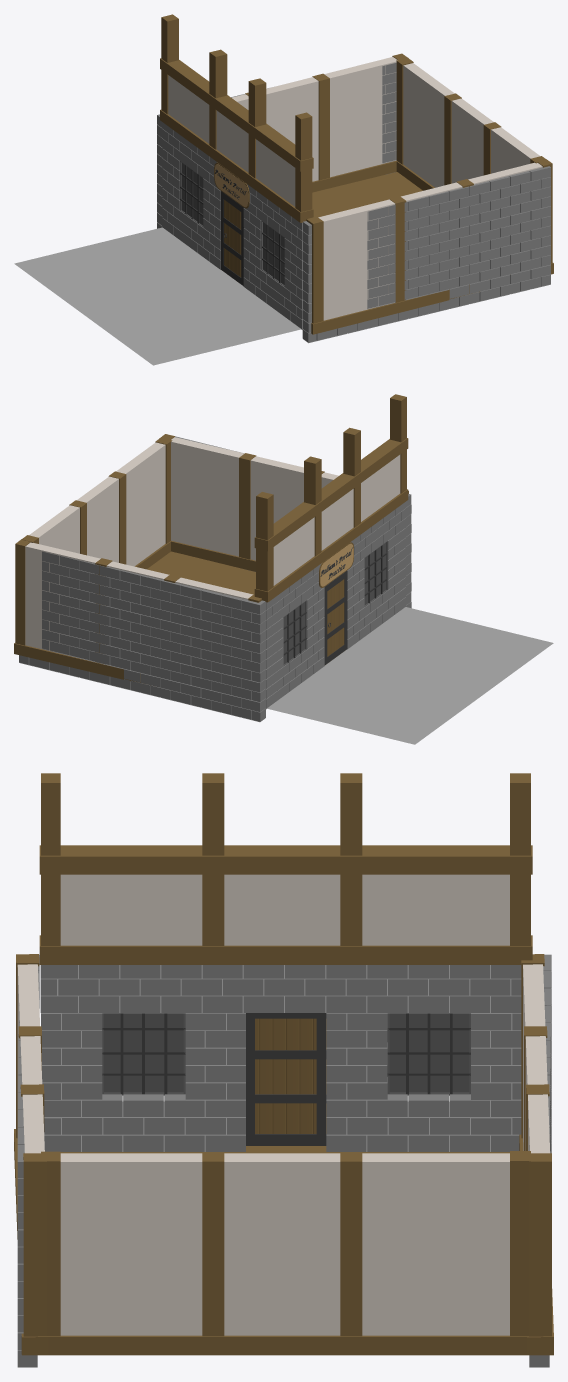
Rendered from testMenuBackground 1.fbx.
3 views of the same model, one above another, from view 1: azimuth 30°, elevation 25°; view 2: azimuth 150°, elevation 25°; view 3: azimuth 270°, elevation 25° (orthographic). The views are drawn at different scales.
Visible parts, largest first — view 1: BrickWall_Back1, pPlane2, BrickWall, pCube13, pCube9, pCube3, pCube11, pCube2, pCube12, pCube1, pCube10, pPlane1 (+9 smaller); view 2: BrickWall_Back, pPlane2, pCube11, BrickWall, pCube9, pCube3, pCube2, pCube1, pCube13, pCube14, pCube10, pPlane1 (+9 smaller); view 3: pCube9, BrickWall, pCube2, pCube10, pCube3, pCube1, Brickplaster, pCube12, door, pCube14, pCube7, pCube8 (+8 smaller).
Boxes of the visible parts, x1=… form: BrickWall_Back1: x1=302, y1=166, x2=550, y2=343; pPlane2: x1=14, y1=227, x2=301, y2=365; BrickWall: x1=162, y1=122, x2=302, y2=329; pCube13: x1=231, y1=57, x2=397, y2=181; pCube9: x1=403, y1=63, x2=540, y2=187; pCube3: x1=160, y1=14, x2=313, y2=171; pCube11: x1=318, y1=162, x2=542, y2=320; pCube2: x1=168, y1=75, x2=295, y2=206; pCube12: x1=306, y1=159, x2=553, y2=334; pCube1: x1=160, y1=70, x2=313, y2=222; pCube10: x1=396, y1=57, x2=545, y2=190; pPlane1: x1=312, y1=172, x2=422, y2=217; BrickWall_Back: x1=19, y1=551, x2=265, y2=722; pPlane2: x1=267, y1=607, x2=553, y2=744; pCube11: x1=171, y1=437, x2=338, y2=560; BrickWall: x1=266, y1=502, x2=405, y2=708; pCube9: x1=29, y1=442, x2=165, y2=566; pCube3: x1=254, y1=394, x2=408, y2=550; pCube2: x1=273, y1=454, x2=400, y2=585; pCube1: x1=254, y1=450, x2=408, y2=602; pCube13: x1=25, y1=542, x2=253, y2=655; pCube14: x1=14, y1=539, x2=261, y2=685; pCube10: x1=21, y1=438, x2=172, y2=569; pPlane1: x1=147, y1=551, x2=255, y2=594; pCube9: x1=60, y1=1153, x2=509, y2=1335; BrickWall: x1=40, y1=965, x2=521, y2=1151; pCube2: x1=60, y1=874, x2=509, y2=945; pCube10: x1=39, y1=1151, x2=532, y2=1355; pCube3: x1=39, y1=773, x2=532, y2=874; pCube1: x1=39, y1=874, x2=532, y2=964; Brickplaster: x1=41, y1=965, x2=521, y2=1151; pCube12: x1=14, y1=954, x2=48, y2=1355; door: x1=255, y1=1018, x2=326, y2=1133; pCube14: x1=519, y1=954, x2=553, y2=1355; pCube7: x1=389, y1=1013, x2=469, y2=1092; pCube8: x1=104, y1=1013, x2=183, y2=1092.
Size of the model in its own units: 39.86 by 21.19 by 26.87.
